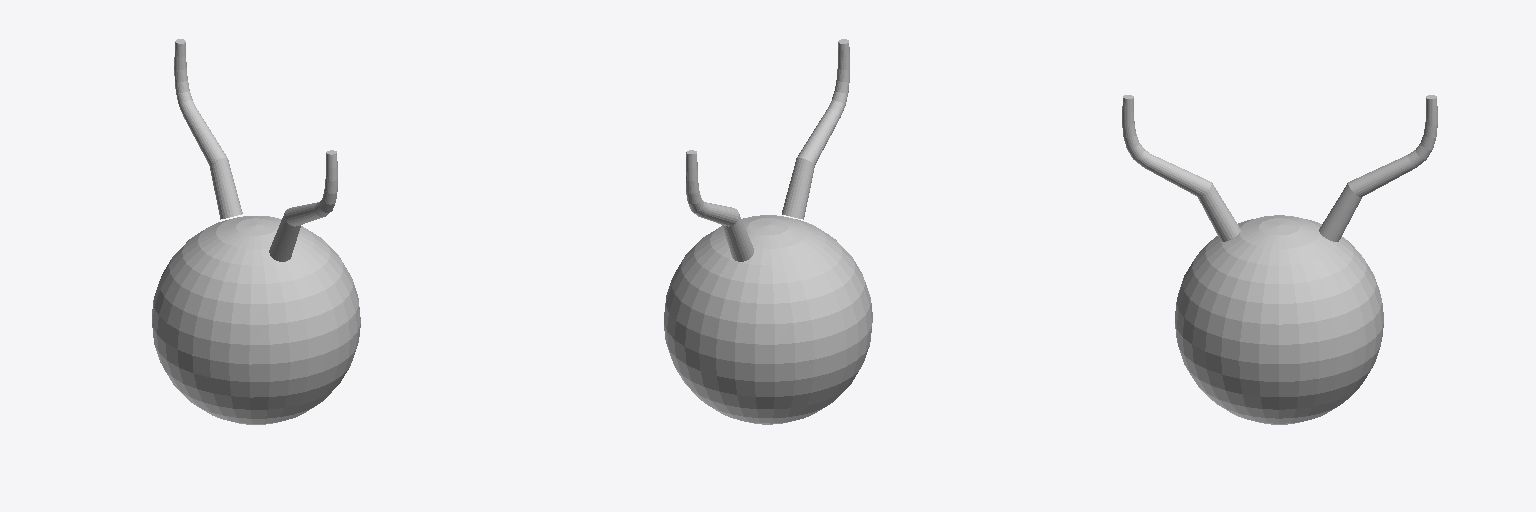
The model's file is renne.obj.
3 renders of one model, left to right at view 1: azimuth 30°, elevation 25°; view 2: azimuth 150°, elevation 25°; view 3: azimuth 270°, elevation 25°, orthographic.
Bounding box in the file's own units: 0.892 × 1.49 × 1.34.